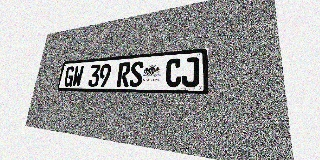3: (88, 64, 101, 87)
9: (98, 63, 112, 87)
C: (165, 58, 182, 87)
G: (63, 66, 75, 87)
J: (182, 57, 199, 87)
R: (116, 62, 131, 87)
S: (129, 61, 144, 87)
W: (72, 65, 84, 87)
